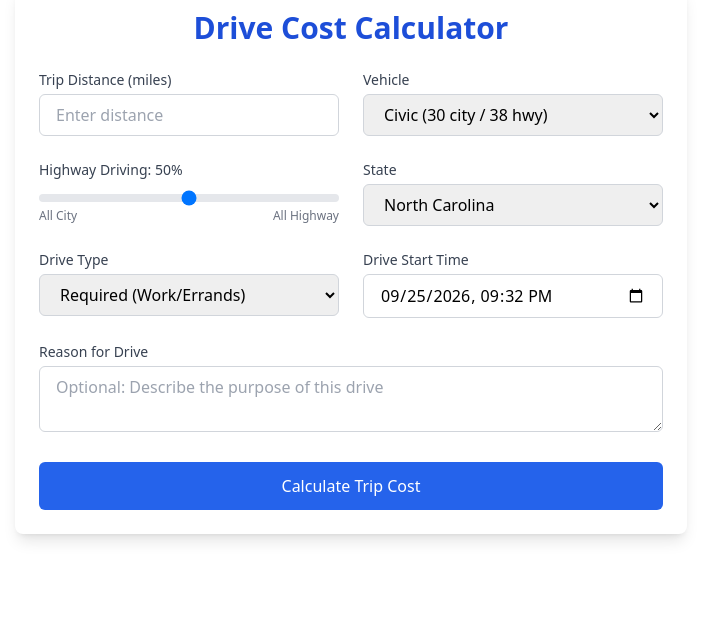
Test: Calculator › shows an error and does not submit when there is no vehicle selected
Expected: the dropdown labelled "Vehicle" shows "Civic (30 city / 38 hwy)", [363,94,663,136]
Type "100" into the number field labelled "Trip Distance (miles)" at point(189, 115), box [39,94,339,136]
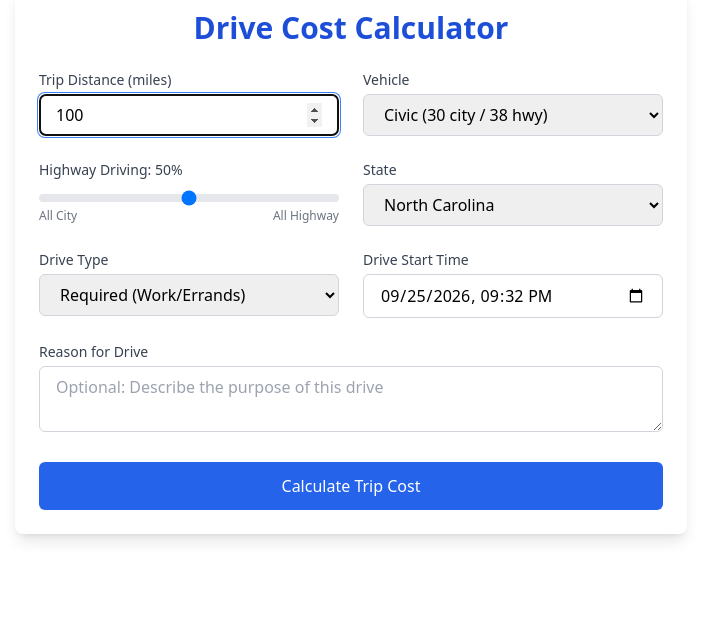
Select "" in the dropdown labelled "Vehicle" at point(513, 115), box [363,94,663,136]
Click the button "Calculate Trip Cost" at point(351, 486), box [39,462,663,510]
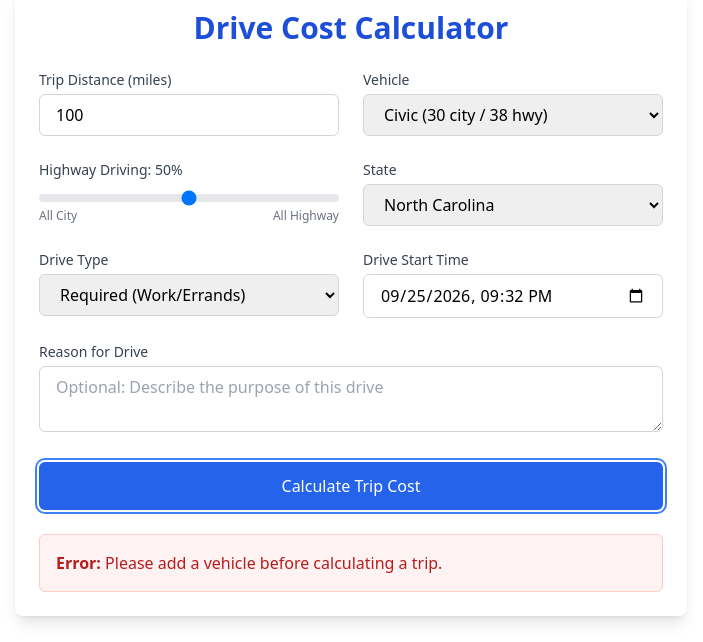
Expected: the text "Error: Please add a vehicle before calculating a trip." is shown, [39,534,663,592]
